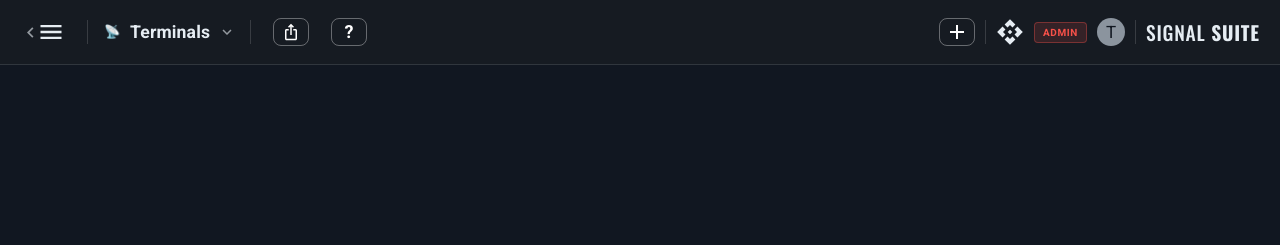
Test: Header role display › names the role and what it grants in the account menu
Click the button named "account menu" at (1111, 32), box [1092,13,1130,51]
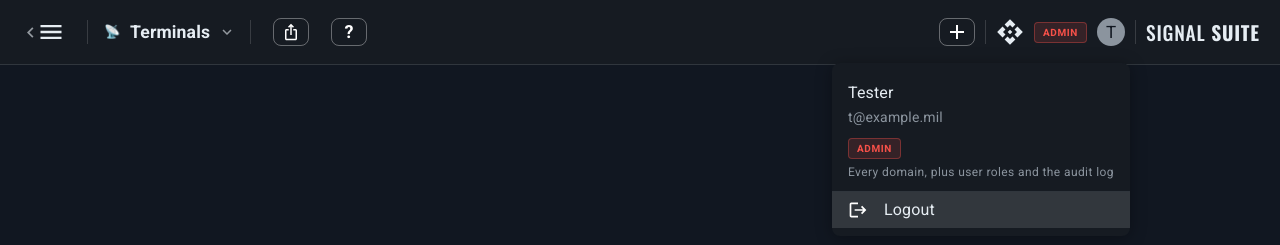
expect the text "Every domain, plus user roles and the audit log" is shown: met, box [848,163,1114,183]
